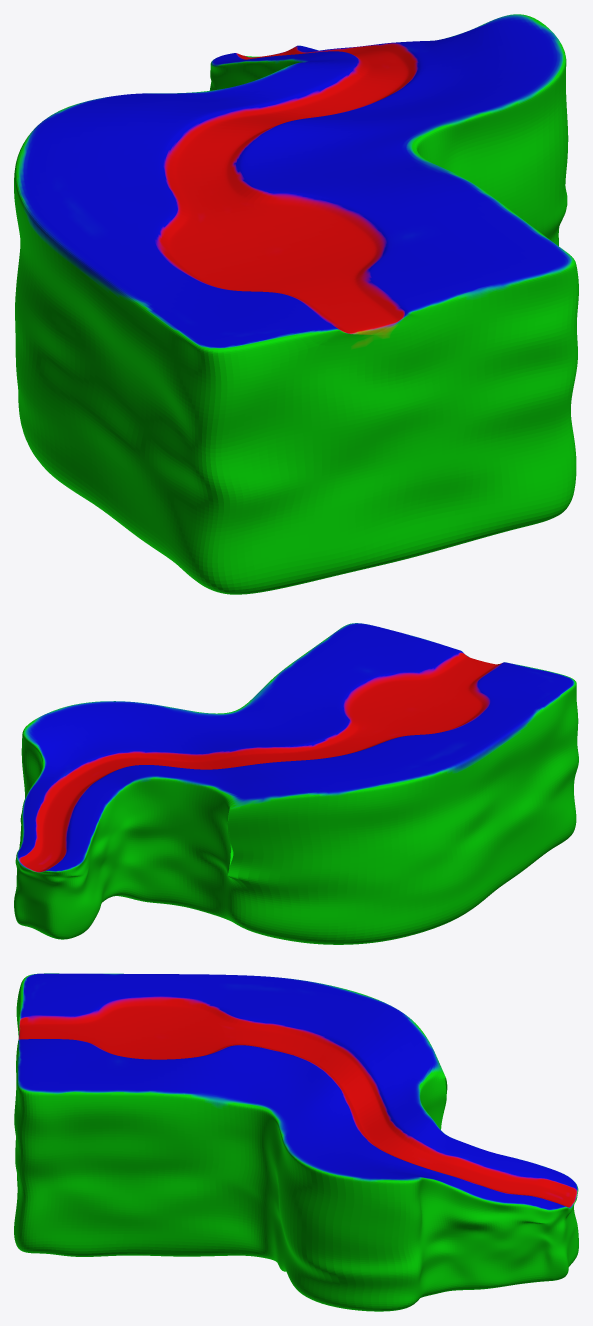
File: level_one_raised_ground_4.fbx
3 renders of one model, top to bottom at view 1: azimuth 30°, elevation 25°; view 2: azimuth 150°, elevation 25°; view 3: azimuth 270°, elevation 25°, orthographic. The views are drawn at different scales.
Visible parts, largest first — view 1: RaisedGround04; view 2: RaisedGround04; view 3: RaisedGround04.
Boxes of the visible parts, bbox=[...] form: RaisedGround04: bbox=[14, 14, 578, 594]; RaisedGround04: bbox=[14, 623, 578, 944]; RaisedGround04: bbox=[14, 973, 578, 1311].
Bounding box in the file's own units: 3246 × 1322 × 3861.
